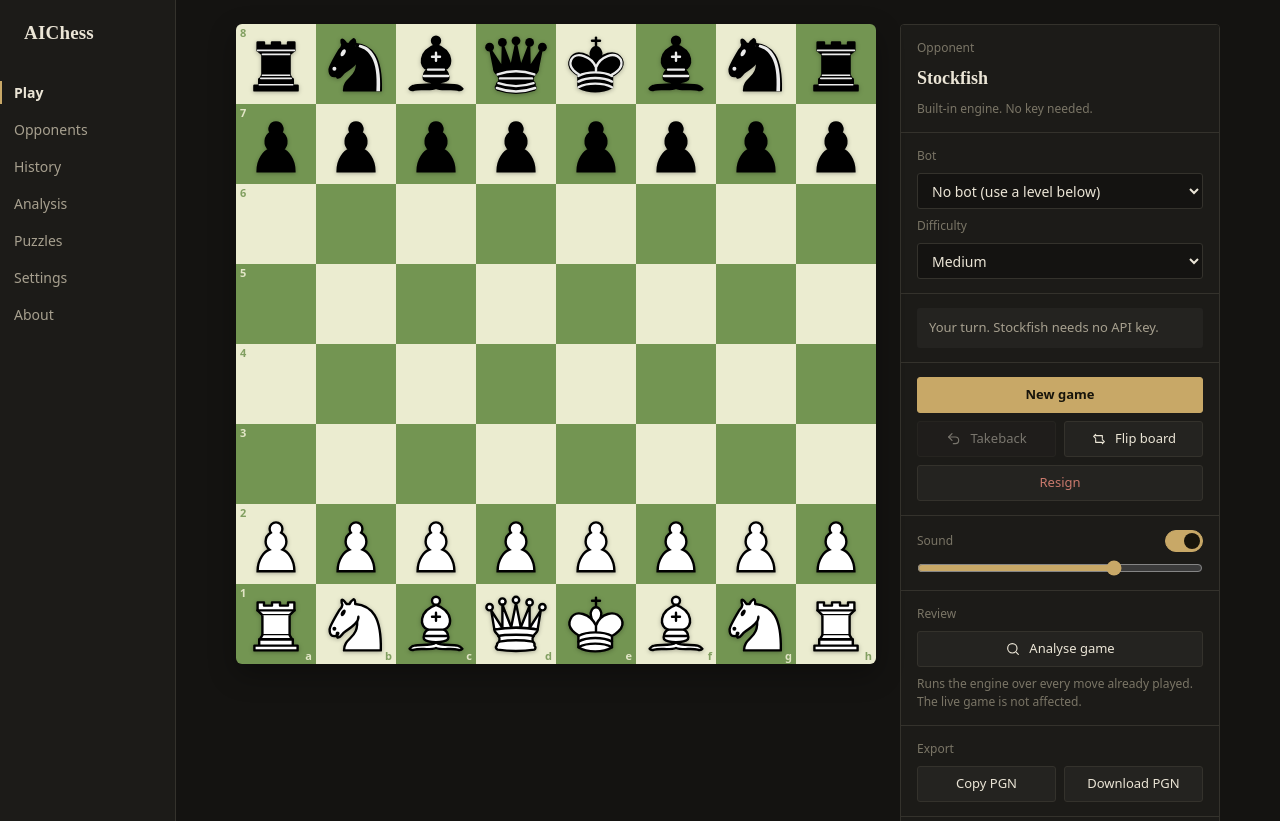
playing a move › plays one move sound and animates the pawn for e2-e4
Press the mouse on the element with class "chessboard-wrap": {"x": 556, "y": 344} [236,24,876,664]
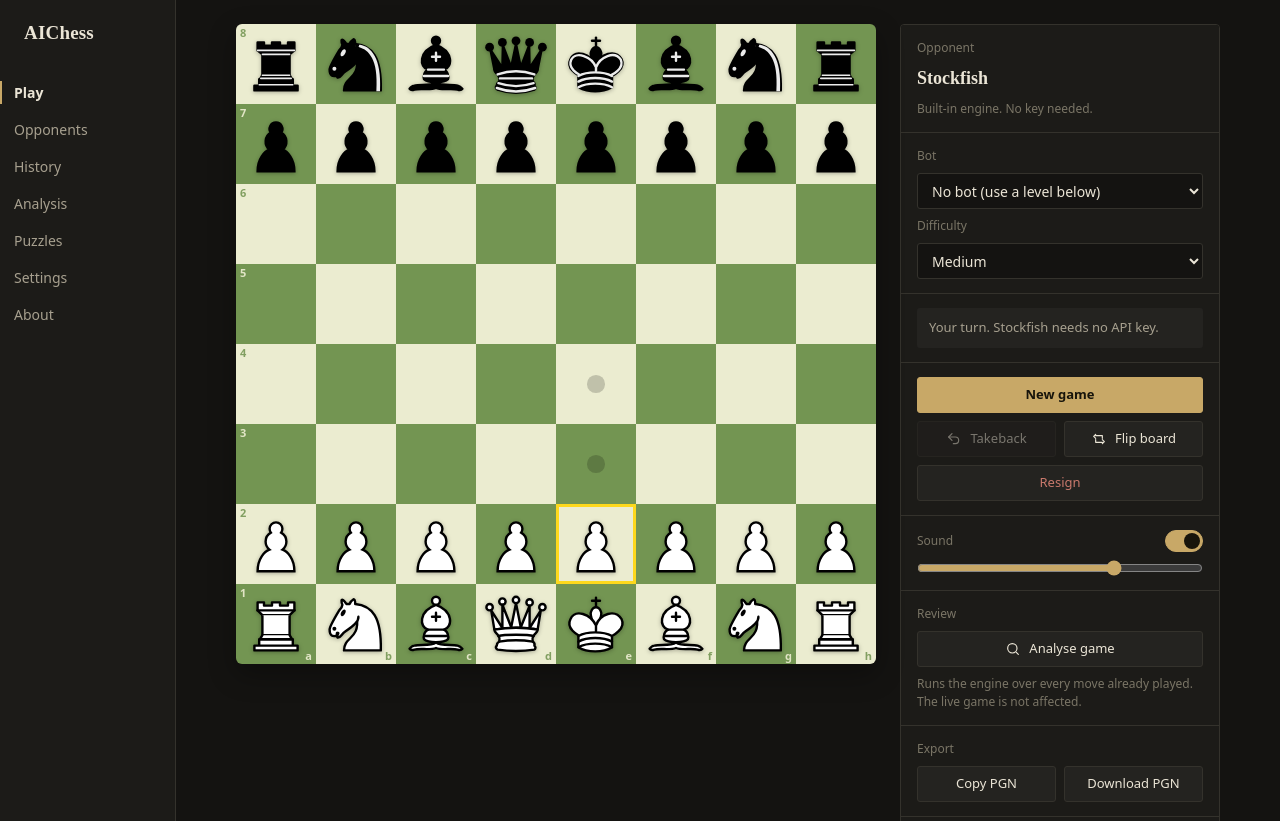
Press the mouse on the element with class "chessboard-wrap": {"x": 556, "y": 344} [236,24,876,664]
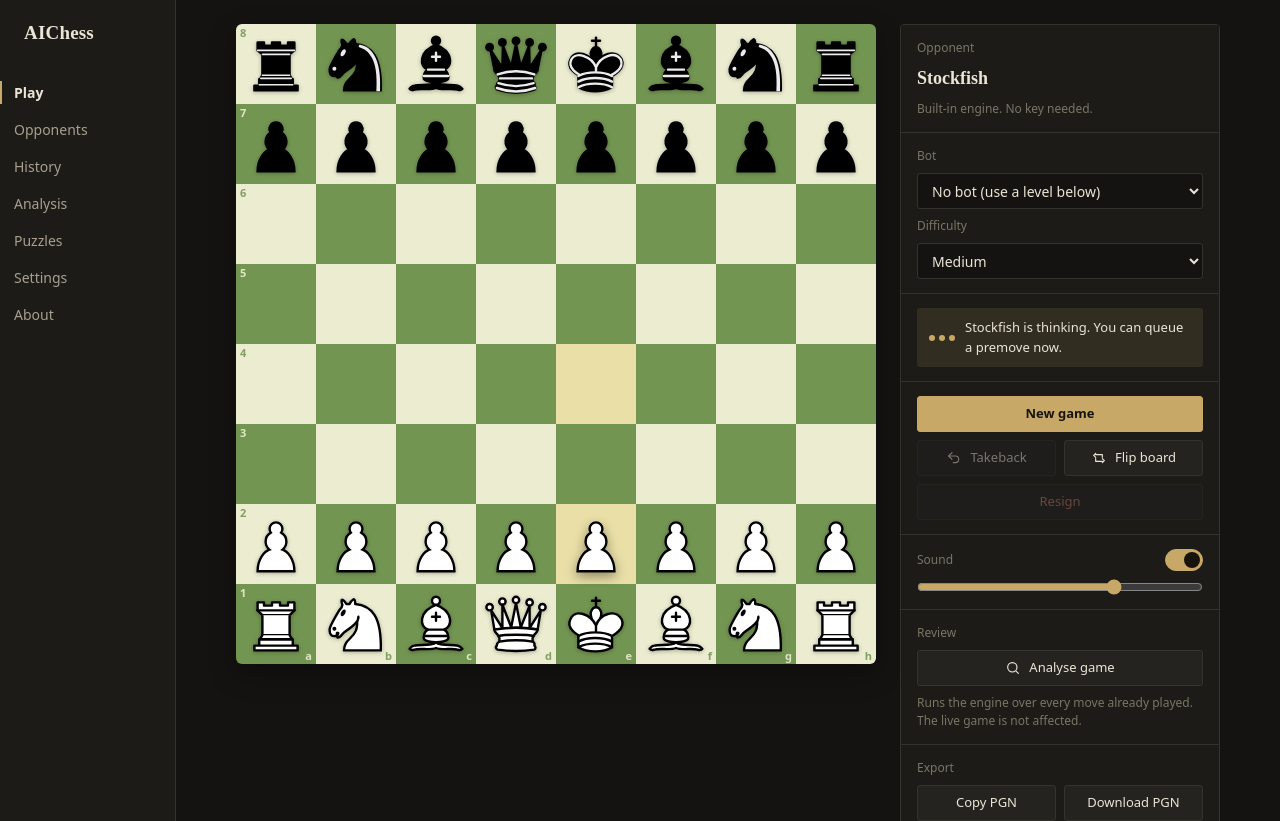
Expected: the element with test id "flying-piece" is shown, [556,504,636,584]
